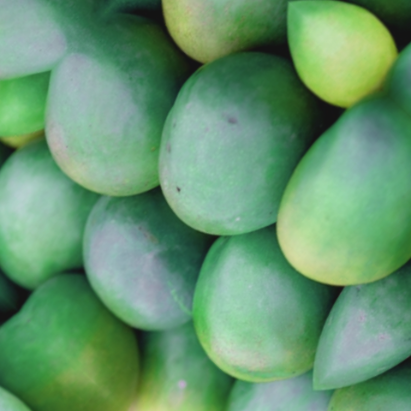mango: (103, 15, 370, 282), (0, 0, 251, 238), (227, 71, 411, 333), (28, 158, 247, 377)
